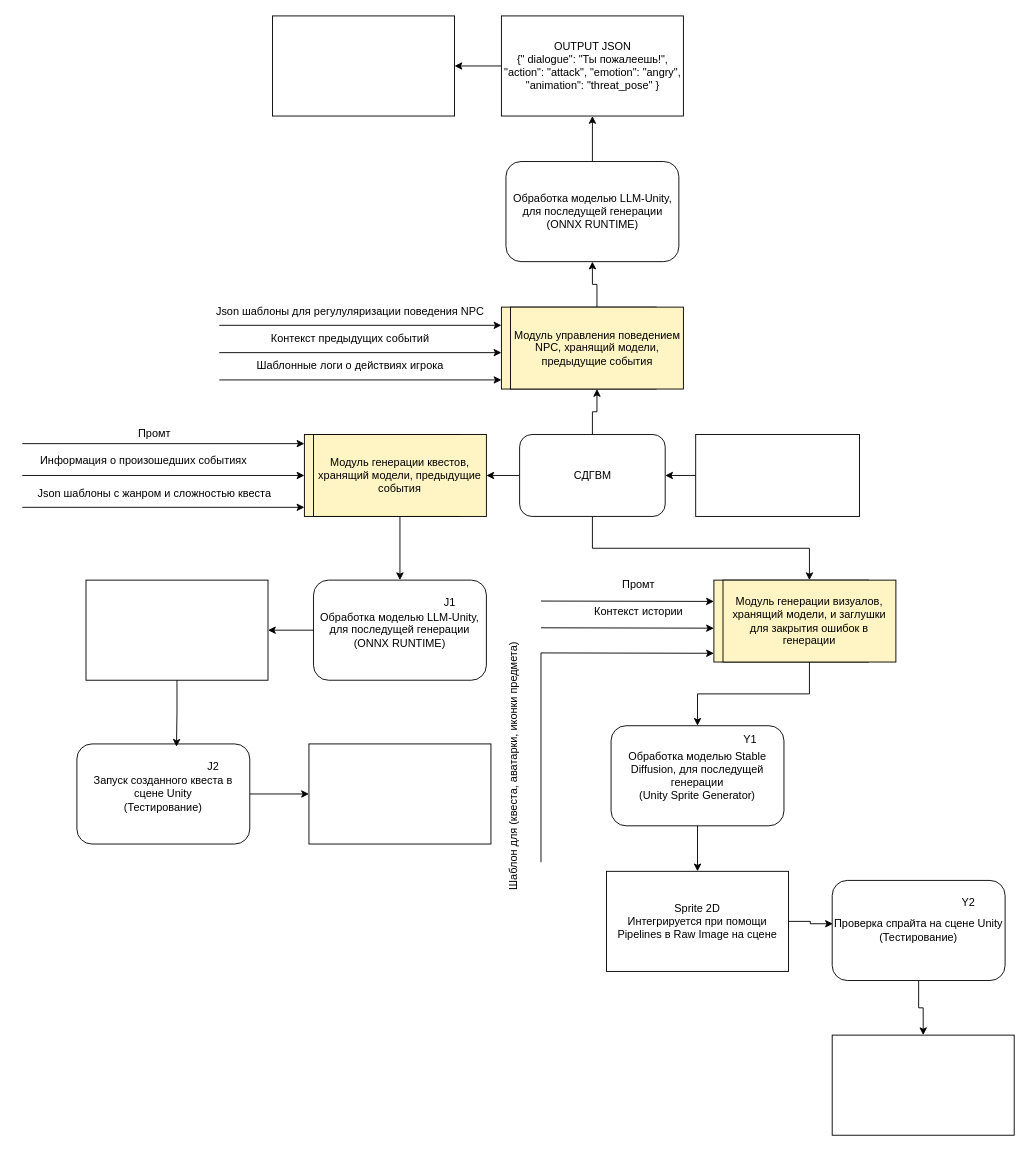
The diagram is 1030 pixels wide and 1151 high, and some of its shapes have lost their labels. The centre of each missing label's shape, as x and y in pixels:
Logged файлы об событиях и ошибках: pixel 399 793
OUTPUT JSON {"Принеси мне предмет: "Quest item" "}: pixel 176 629
Готовый ассет для визуализации: pixel 922 1084
Обученная модель поведения NPC Интегрируется при помощи LLM-Unity: pixel 363 65
Пользователь (разработчик): pixel 777 475
